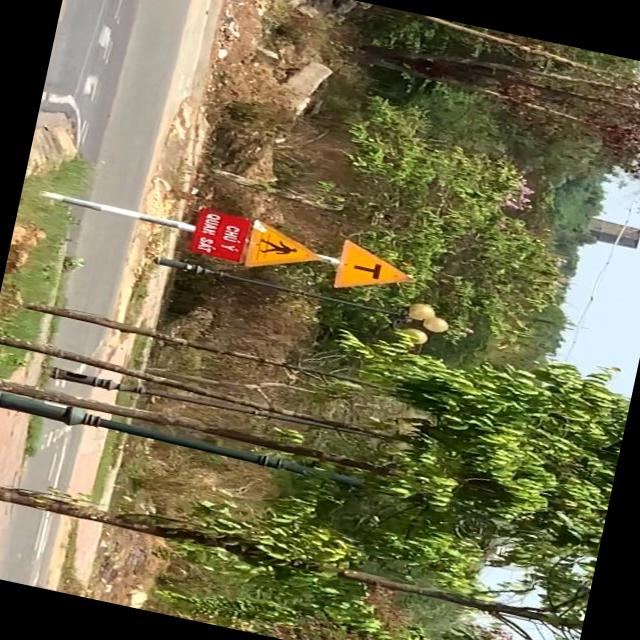W-205d: (329, 235, 420, 302)
W-224: (238, 217, 326, 284)
